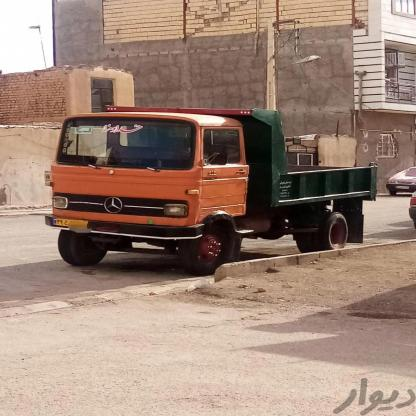Car: (385, 163, 416, 192)
Truck: (42, 106, 384, 267)
